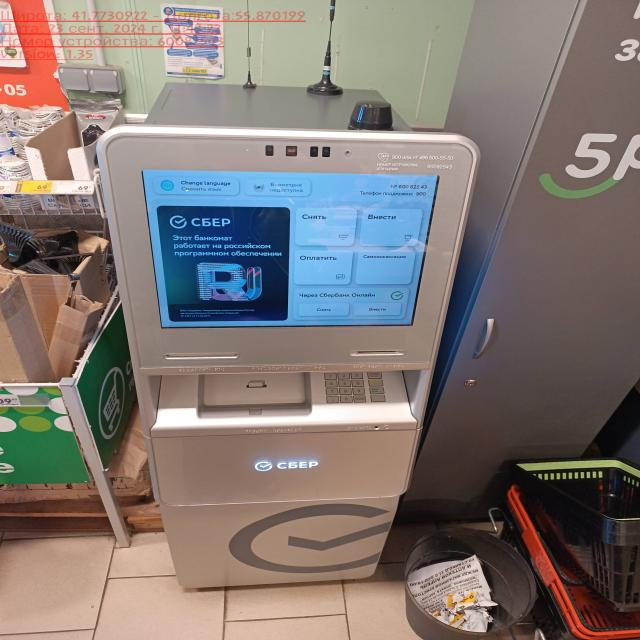bank: (100, 83, 482, 592)
